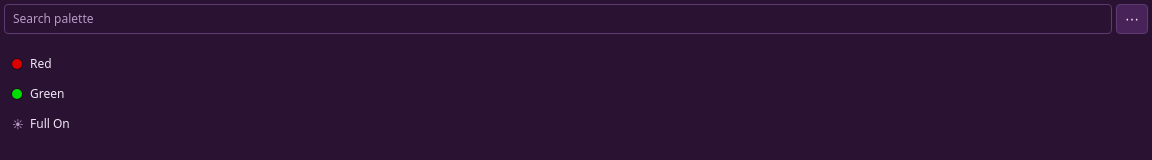
Test: palette selection (LightKey) › hovering a preset row reveals the Edit button
Hover over the element showing "Red" at (576, 64), box [4, 50, 1148, 78]
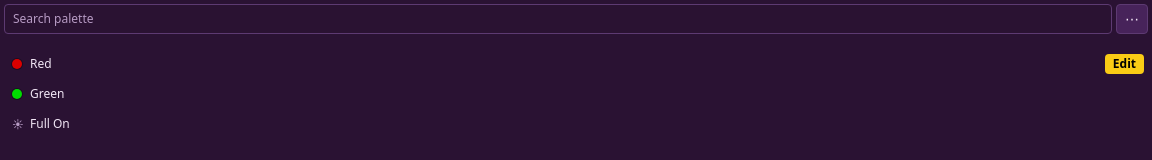
Expected: the button with aria-label "Edit Red" is shown, [1105, 54, 1144, 74]
